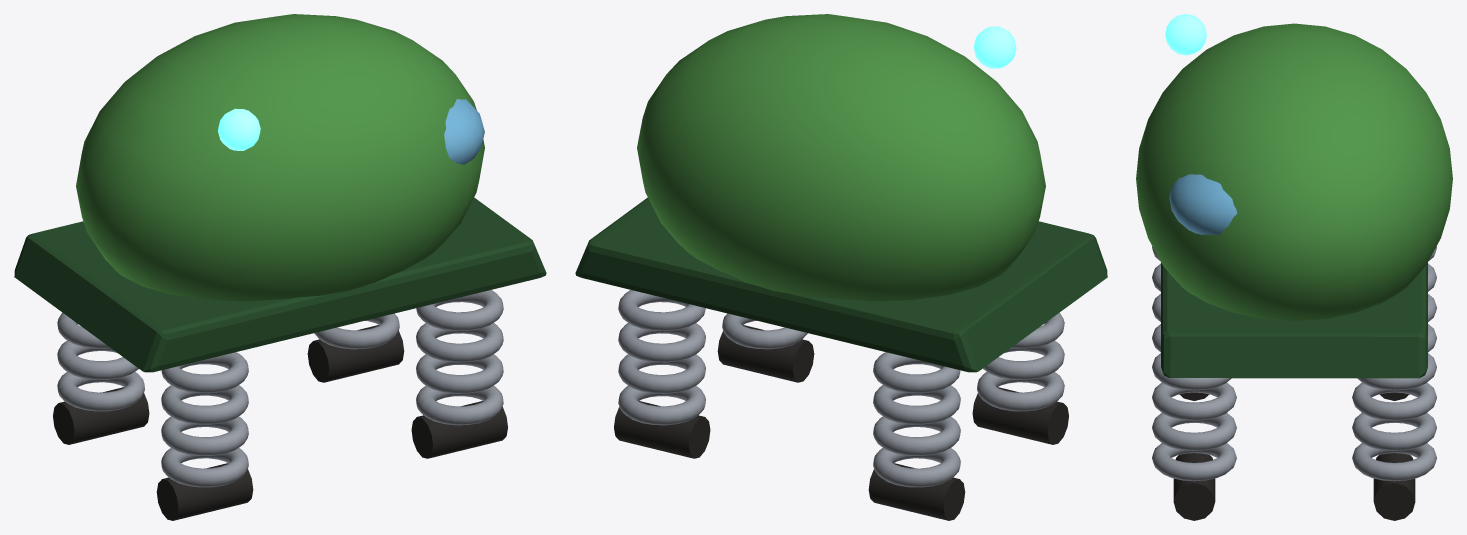
File: jumper_r.glb
The picture shows the model from 3 angles, left to right: view 1: azimuth 30°, elevation 25°; view 2: azimuth 150°, elevation 25°; view 3: azimuth 270°, elevation 25°; orthographic projection. The views are drawn at different scales.
Visible parts, largest first — view 1: dome, frame, foot.003, foot.002, foot.001, foot, coil, coil.008, coil.004, coil.002, coil.010, coil.001 (+8 smaller); view 2: dome, frame, foot.002, foot.003, foot, foot.001, coil.004, coil.012, coil, coil.006, coil.014, coil.005 (+7 smaller); view 3: dome, frame, visor, coil.008, coil.012, coil.009, coil.010, coil.013, coil.014, foot.002, foot.003, lamp (+2 smaller).
Boxes of the visible parts, x1,y1,x2,y2 form: dome: (76,14,484,301); frame: (14,197,546,372); foot.003: (307,325,404,382); foot.002: (411,401,507,458); foot.001: (53,387,149,444); foot: (156,463,253,520); coil: (161,448,248,487); coil.008: (416,385,503,425); coil.004: (57,372,144,411); coil.002: (161,385,248,424); coil.010: (416,323,503,362); coil.001: (161,416,248,455); dome: (637,14,1045,301); frame: (575,197,1107,372); foot.002: (717,325,814,382); foot.003: (614,401,710,458); foot: (972,387,1068,444); foot.001: (868,463,965,520); coil.004: (873,448,960,487); coil.012: (618,385,705,425); coil: (977,372,1064,411); coil.006: (873,385,960,424); coil.014: (618,323,705,362); coil.005: (873,416,960,455); dome: (1136,23,1452,321); frame: (1161,262,1427,378); visor: (1169,174,1237,234); coil.008: (1152,443,1236,481); coil.012: (1352,443,1436,481); coil.009: (1152,413,1236,450); coil.010: (1152,382,1236,420); coil.013: (1352,413,1436,450); coil.014: (1352,382,1436,420); foot.002: (1173,453,1215,520); foot.003: (1373,453,1415,520); lamp: (1165,14,1206,55).
Bounding box in the file's own units: 10.77 × 10.4 × 7.6.
